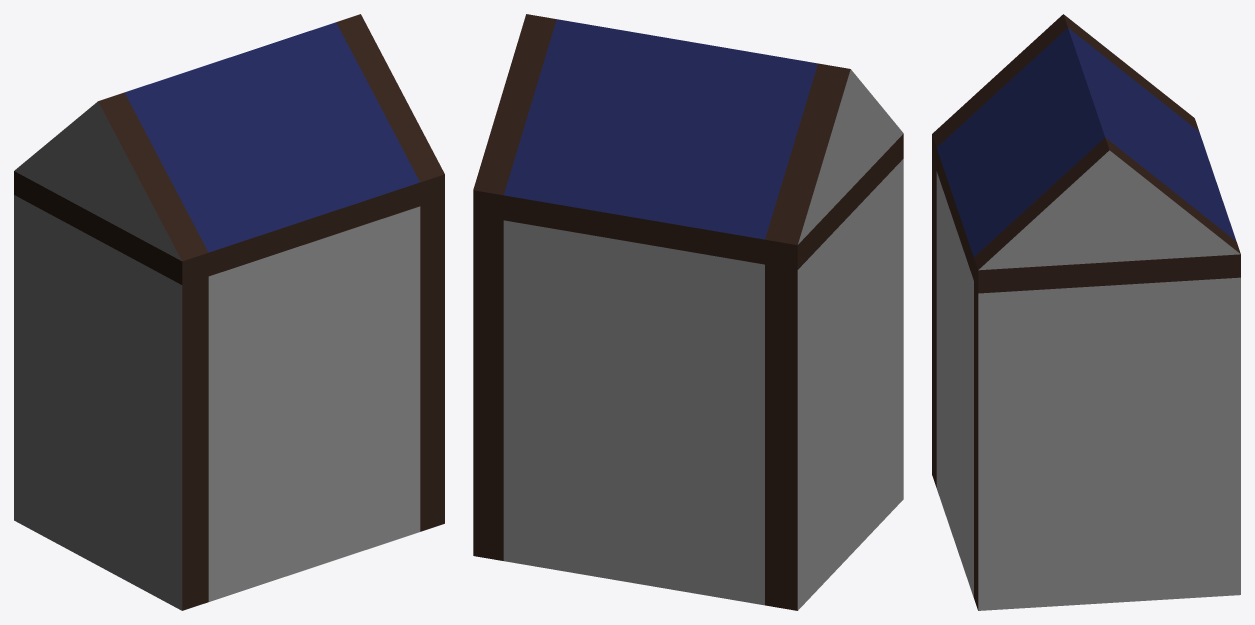
File: SM_TileP2SmallBuilding.fbx
The picture shows the model from 3 angles, left to right: view 1: azimuth 30°, elevation 25°; view 2: azimuth 150°, elevation 25°; view 3: azimuth 270°, elevation 25°; orthographic projection. The views are drawn at different scales.
Visible parts, largest first — view 1: TileP2SmallBuilding; view 2: TileP2SmallBuilding; view 3: TileP2SmallBuilding.
Part boxes in pixels (left/top/right/bottom): TileP2SmallBuilding: left=14, top=14, right=444, bottom=610; TileP2SmallBuilding: left=473, top=14, right=903, bottom=610; TileP2SmallBuilding: left=932, top=14, right=1240, bottom=610.
Bounding box in the file's own units: 84.38 × 117 × 72.41.
